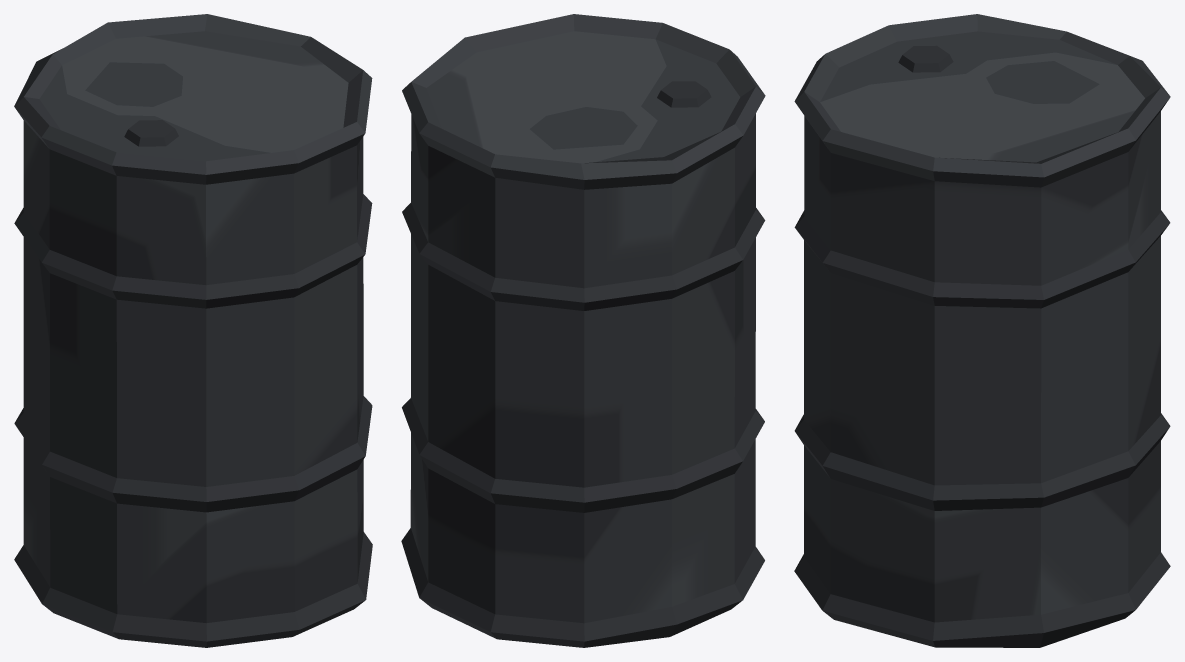
The model's file is Prop_Barrel_Metal_03.glb.
3 renders of one model, left to right at view 1: azimuth 30°, elevation 25°; view 2: azimuth 150°, elevation 25°; view 3: azimuth 270°, elevation 25°, orthographic.
Visible parts, largest first — view 1: SM_Gen_Prop_Barrel_Metal_03; view 2: SM_Gen_Prop_Barrel_Metal_03; view 3: SM_Gen_Prop_Barrel_Metal_03.
Boxes of the visible parts, x1,y1,x2,y2 form: SM_Gen_Prop_Barrel_Metal_03: (14, 14, 372, 647); SM_Gen_Prop_Barrel_Metal_03: (401, 14, 765, 647); SM_Gen_Prop_Barrel_Metal_03: (794, 14, 1170, 647).
Bounding box in the file's own units: 0.6949 × 1.05 × 0.7261.
1 material, 1 textured.
